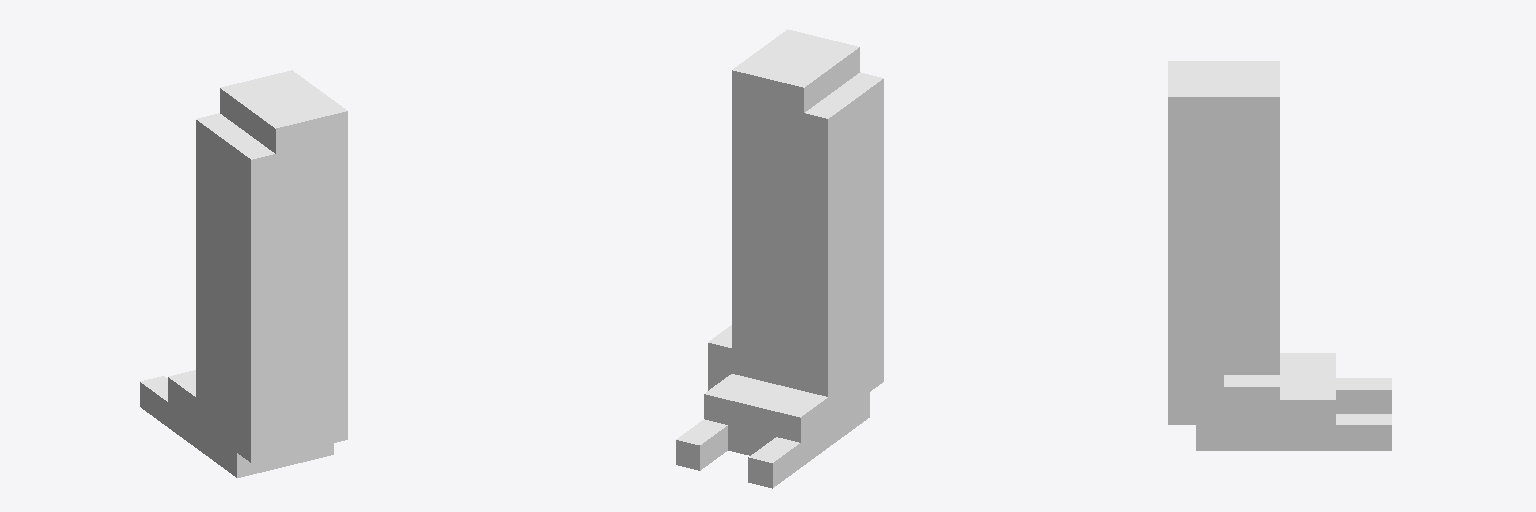
File: Large_greenguy-4.obj
3 renders of one model, left to right at view 1: azimuth 30°, elevation 25°; view 2: azimuth 150°, elevation 25°; view 3: azimuth 270°, elevation 25°, orthographic.
Parts seen in each view (by area): view 1: object 1; view 2: object 1; view 3: object 1.
Boxes of the visible parts, <box> form: object 1: <box>140,70,347,477</box>; object 1: <box>676,29,883,488</box>; object 1: <box>1168,61,1391,450</box>.
Size of the model in its own units: 0.5 by 1.4 by 0.8.